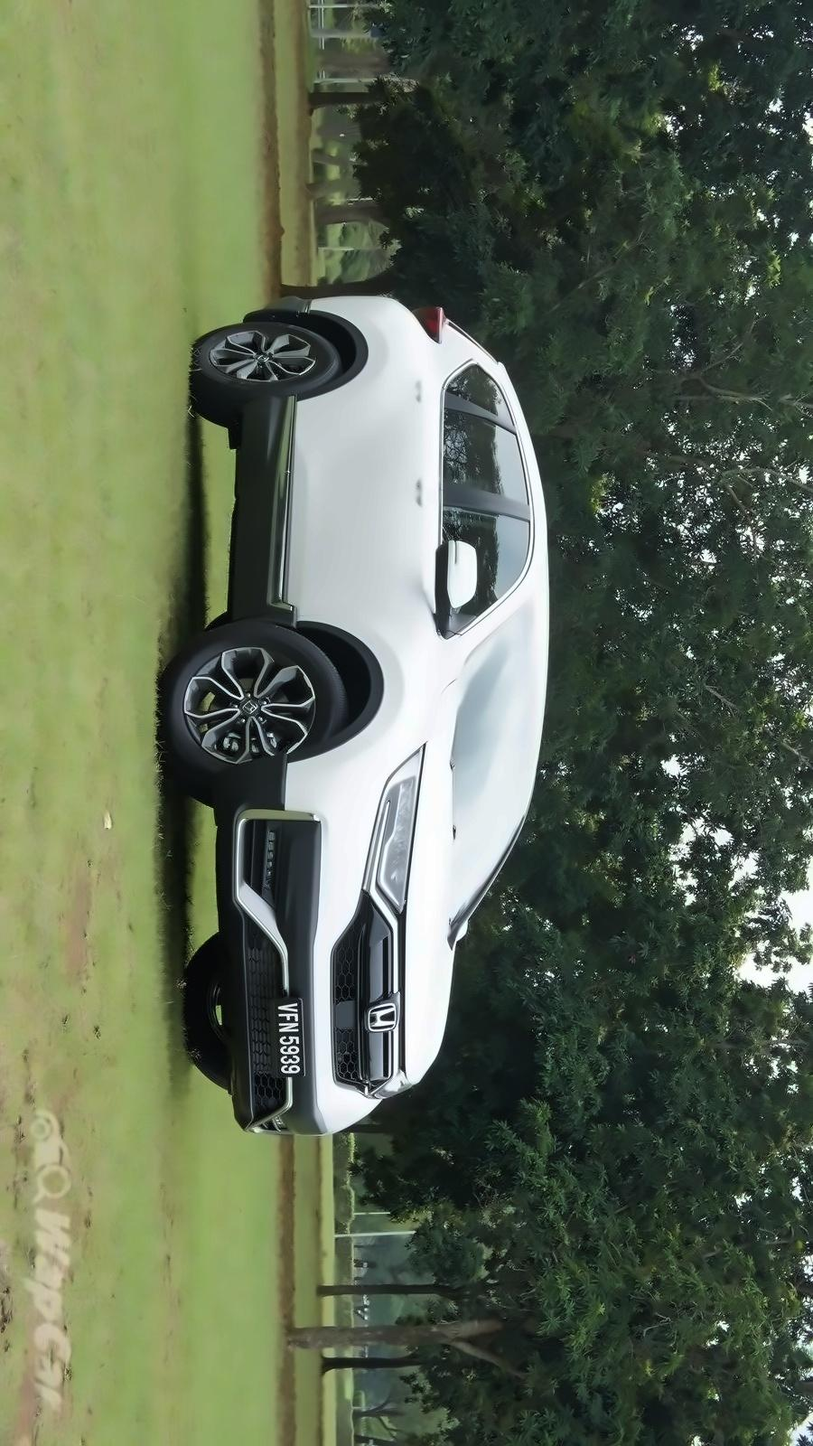Car hood: (404, 674, 466, 1088)
Driver-s door - -F-R-: (233, 470, 557, 632)
Fender - -F-R-: (226, 594, 473, 787)
Fender - -R-R-: (233, 290, 475, 399)
Front bumper: (206, 746, 384, 1144)
Headlight - -R-: (362, 744, 429, 931)
Passenger-s door - -R-R-: (224, 355, 563, 508)
Rear light - -R-: (404, 296, 446, 347)
Side bumper - -R-: (217, 380, 308, 630)
Side mirror - -R-: (420, 527, 483, 632)
